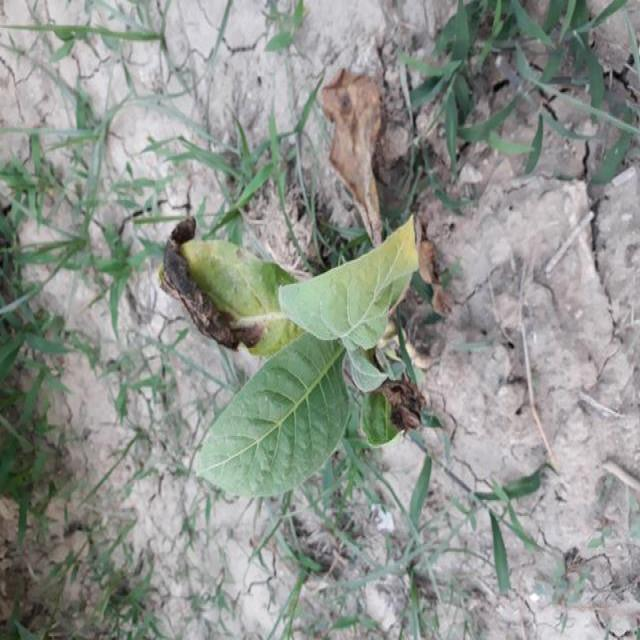crop: (162, 220, 440, 504)
